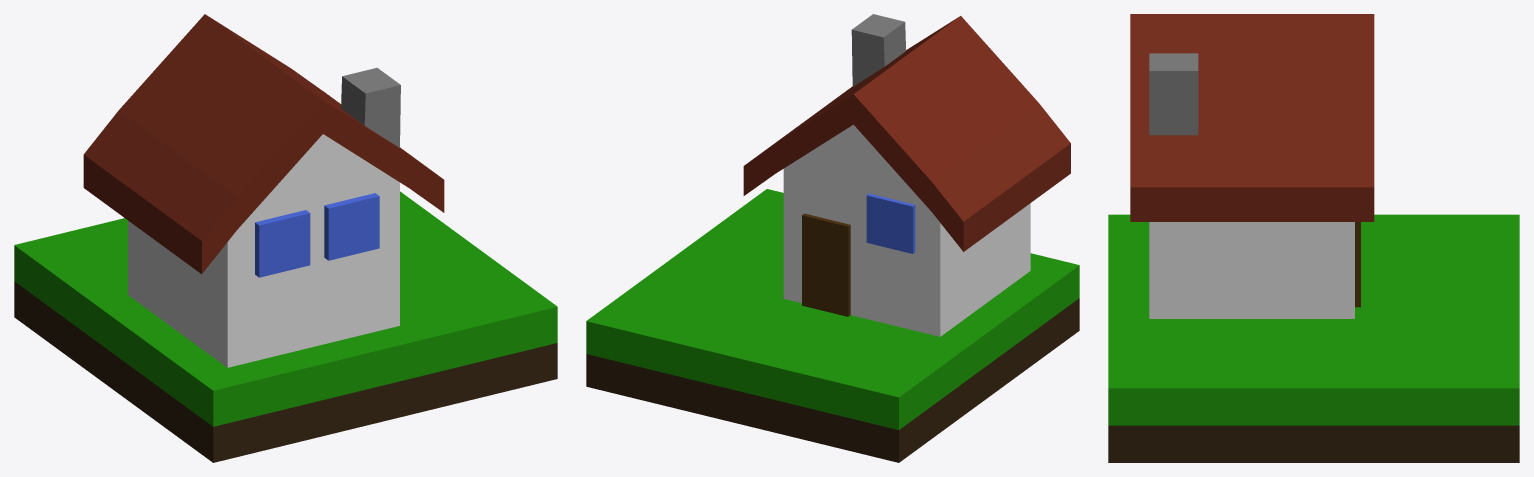
File: house_1.dae
3 renders of one model, left to right at view 1: azimuth 30°, elevation 25°; view 2: azimuth 150°, elevation 25°; view 3: azimuth 270°, elevation 25°, orthographic. The views are drawn at different scales.
Parts seen in each view (by area): view 1: Cube.010; view 2: Cube.010; view 3: Cube.010.
Boxes of the visible parts, <box> form: Cube.010: <box>14,14,557,462</box>; Cube.010: <box>586,14,1079,462</box>; Cube.010: <box>1108,14,1519,462</box>.
Bounding box in the file's own units: 0.01 × 0.01 × 0.00901.
